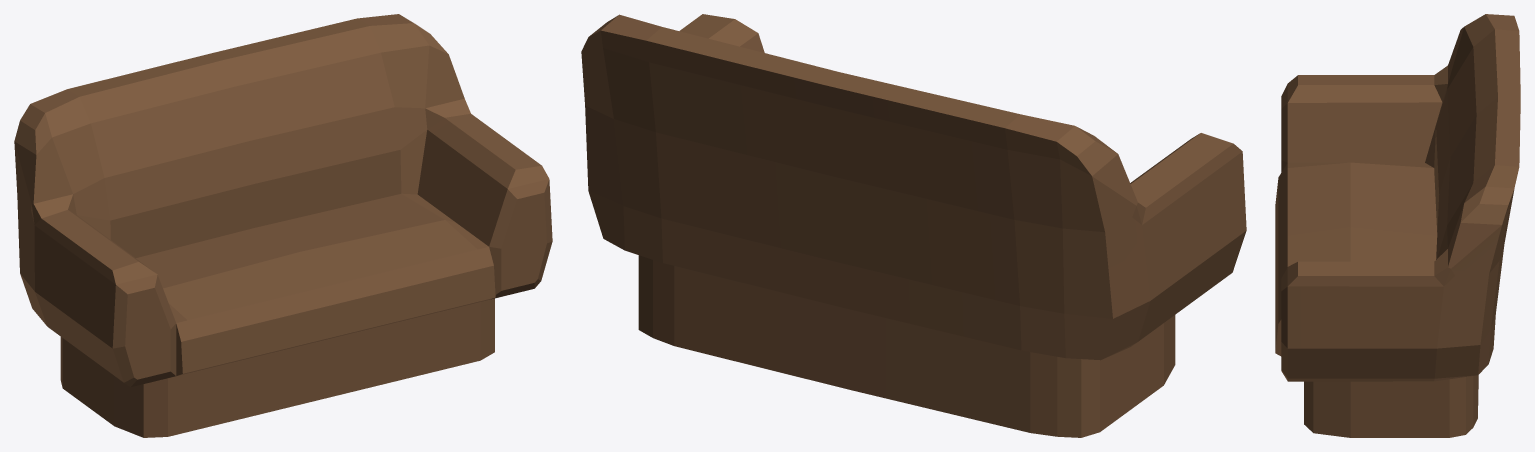
Rendered from Int_Armchair01_3.fbx.
3 views of the same model, side by side, from view 1: azimuth 30°, elevation 25°; view 2: azimuth 150°, elevation 25°; view 3: azimuth 270°, elevation 25° (orthographic). The views are drawn at different scales.
Visible parts, largest first — view 1: Int_Armchair01_3; view 2: Int_Armchair01_3; view 3: Int_Armchair01_3.
Boxes of the visible parts, x1,y1,x2,y2 form: Int_Armchair01_3: (14,14,552,437); Int_Armchair01_3: (581,14,1246,437); Int_Armchair01_3: (1275,14,1520,437).
Size of what is drawn, in the model's own units: 229 by 116 by 132.
